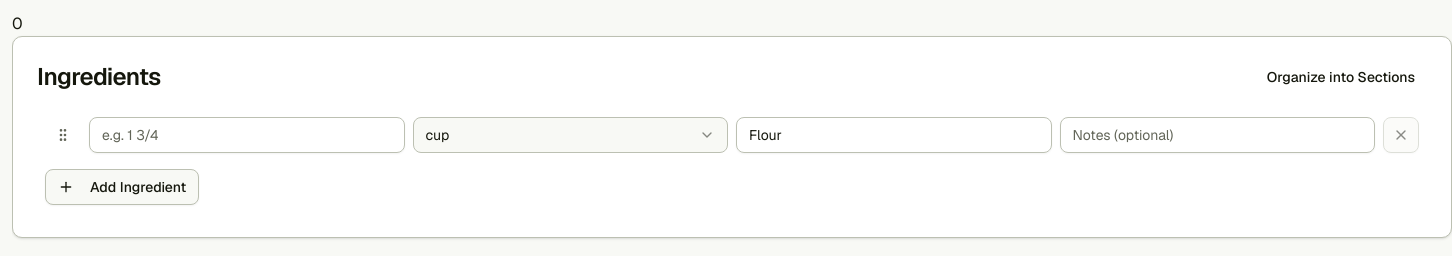
Test: RecipeIngredientsWithSections › parses a typed mixed fraction into amount and displayAmount on blur
Step 1. Type "1 3/4" into the field with placeholder "e.g. 1 3/4" → (247, 135), box [89, 117, 404, 153]
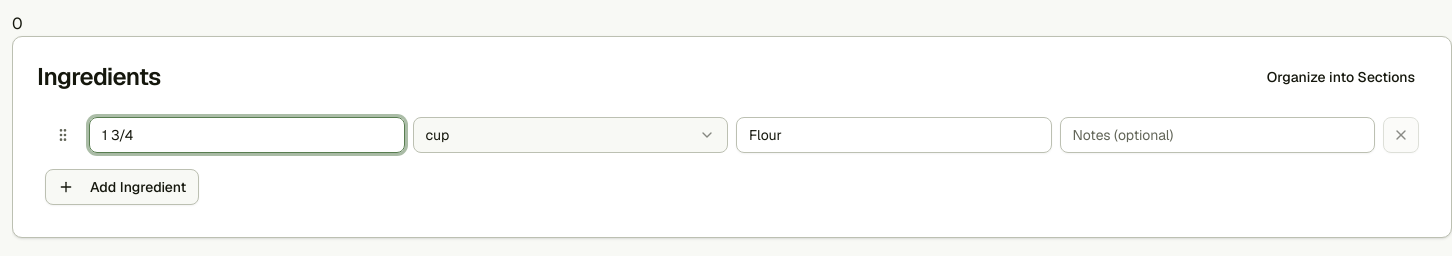
Step 2. Press Tab
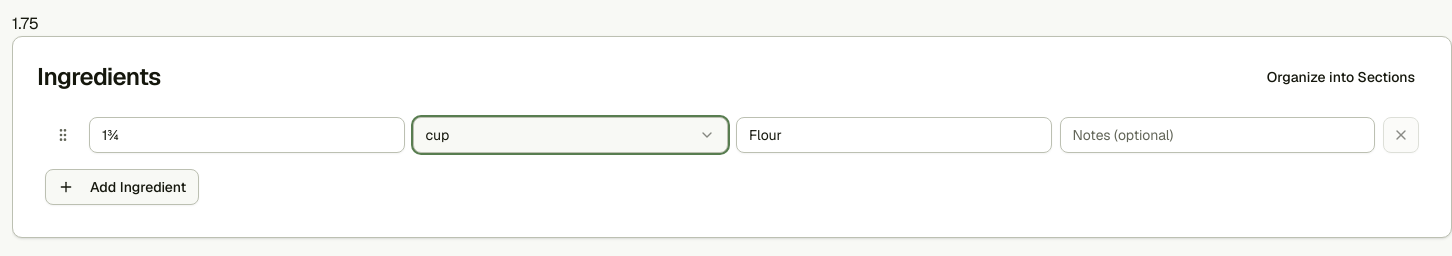
Check: the 1st field with placeholder "e.g. 1 3/4" holds "1¾", box [89, 117, 404, 153]
Check: the text with test id "debug-amount" reads "1.75", box [12, 13, 39, 34]
